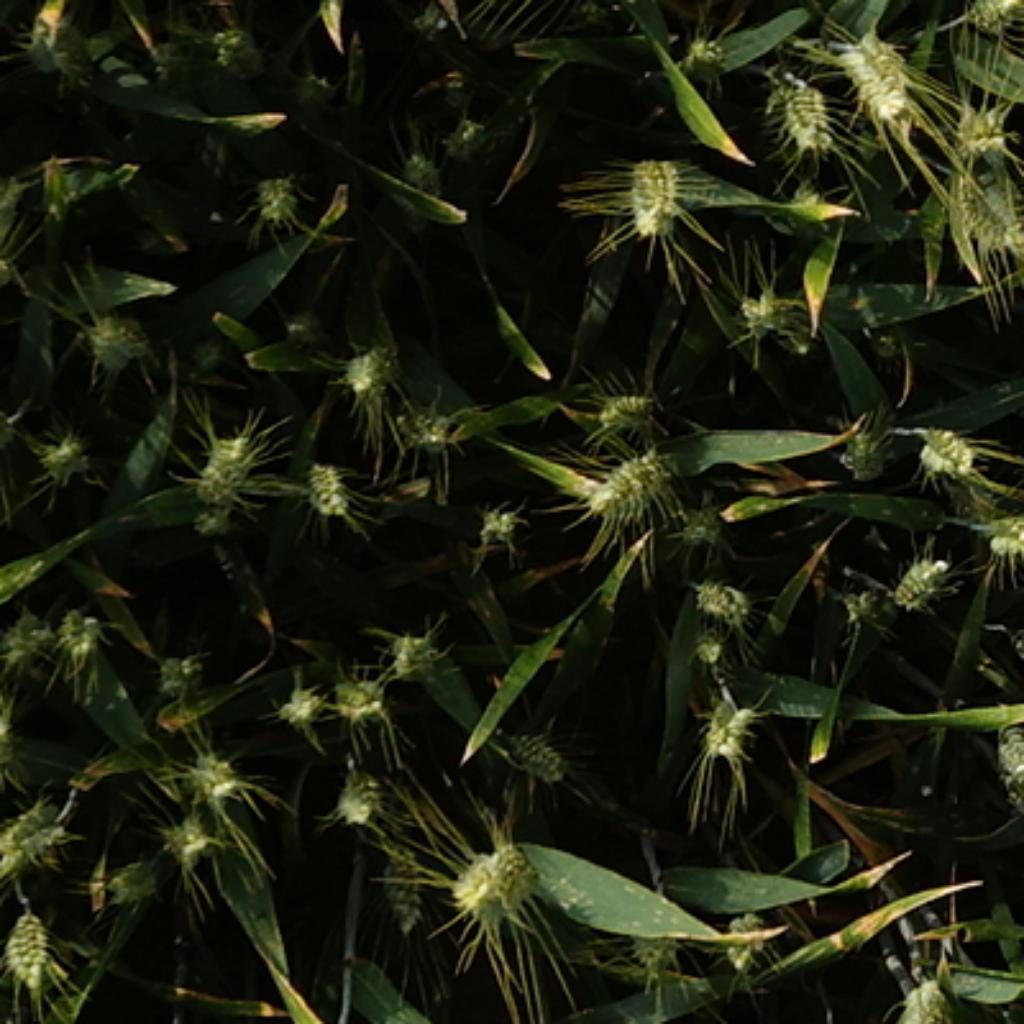0-0: (445, 826, 540, 921), (834, 17, 919, 117), (939, 156, 1024, 248), (583, 437, 678, 517), (2, 788, 71, 888), (614, 143, 688, 235), (762, 58, 834, 151), (189, 419, 263, 509), (2, 903, 62, 998), (373, 381, 458, 448), (488, 714, 570, 780), (376, 844, 430, 942), (732, 273, 814, 337), (834, 414, 903, 486), (834, 563, 908, 629), (174, 739, 243, 808), (386, 138, 453, 209), (23, 0, 88, 73), (696, 686, 762, 757), (156, 798, 225, 865), (2, 601, 71, 668), (79, 302, 151, 366), (107, 839, 179, 903), (883, 542, 954, 604), (337, 332, 404, 396), (947, 92, 1011, 158), (330, 752, 391, 821), (320, 663, 389, 724), (896, 965, 967, 1024), (588, 373, 660, 430), (919, 419, 988, 478), (199, 7, 259, 74), (35, 417, 97, 481), (381, 619, 448, 678), (296, 448, 355, 514), (719, 908, 775, 977), (688, 565, 755, 622), (248, 158, 307, 220), (668, 23, 732, 79), (53, 593, 107, 657), (768, 176, 832, 230), (153, 640, 212, 696), (627, 916, 686, 970), (437, 110, 504, 153), (977, 504, 1024, 563), (955, 0, 1024, 40), (675, 496, 729, 542), (471, 494, 522, 542), (273, 678, 325, 721), (688, 629, 734, 668)
